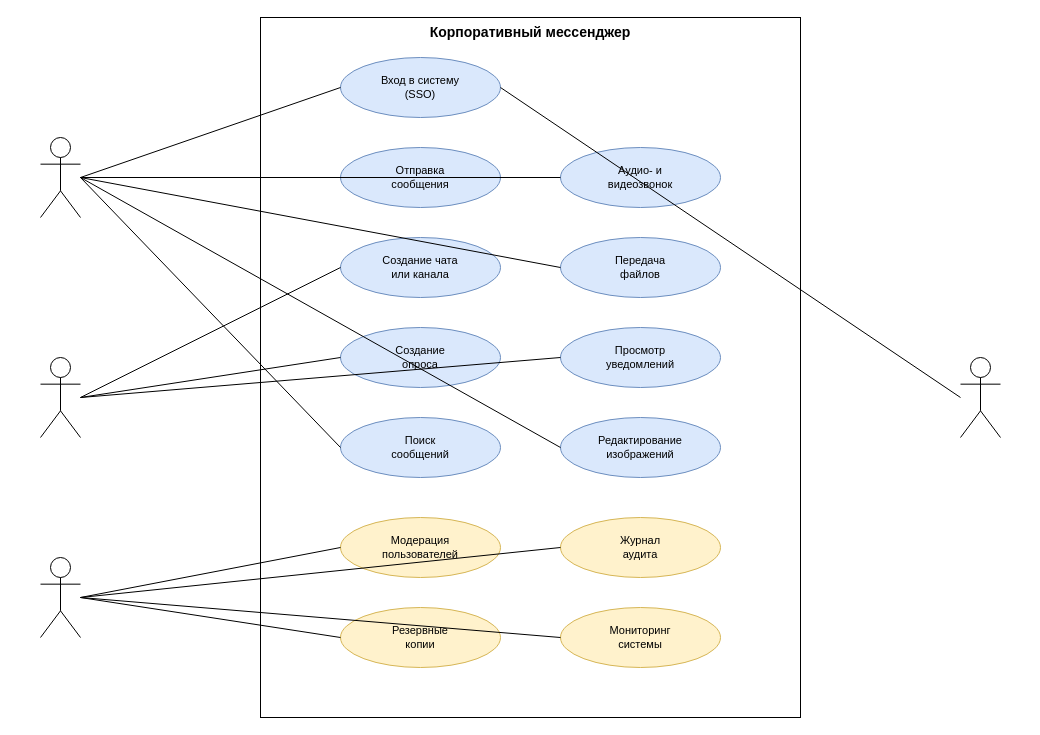
The diagram is 1040 pixels wide and 735 high, and some of its shapes have lost their labels. Here are the shapes that lost their labels. From the top down, the centre of each, then its label:
point 60,177: Сотрудник
point 60,397: Руководитель подразделения
point 980,397: Корпоративная система SSO
point 60,597: Администратор (УИ ДГИ)
